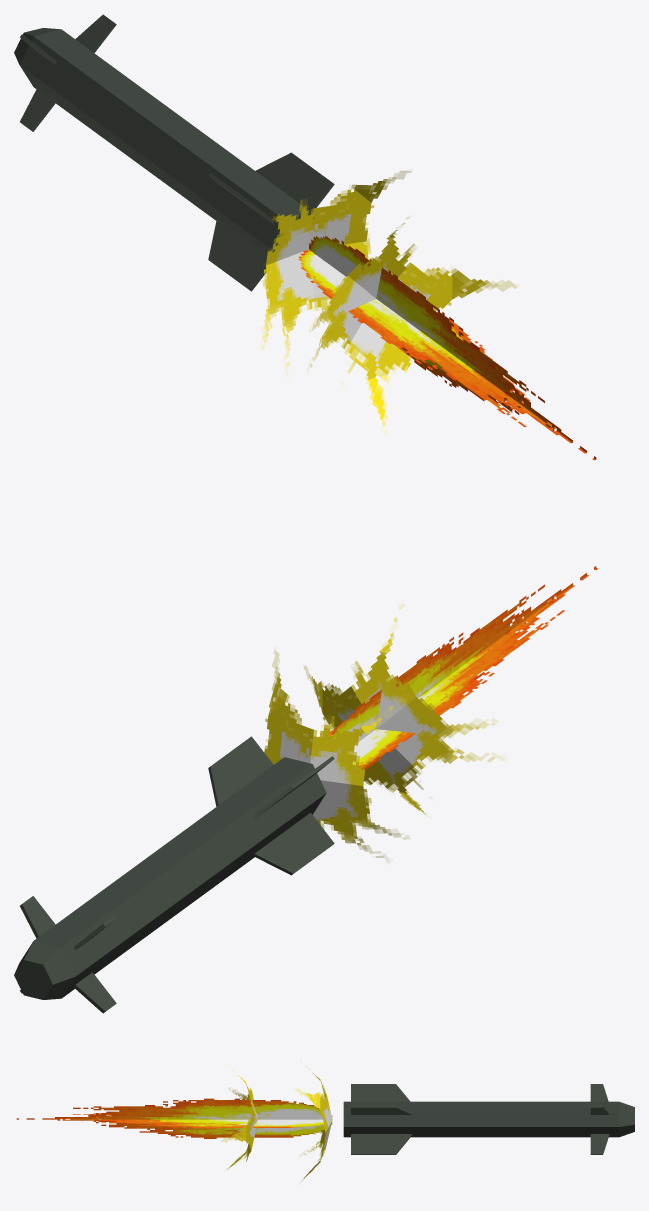
File: hellfire.glb
3 renders of one model, top to bottom at view 1: azimuth 30°, elevation 25°; view 2: azimuth 150°, elevation 25°; view 3: azimuth 270°, elevation 25°, orthographic. The views are drawn at different scales.
Parts seen in each view (by area): view 1: Plane.002, Cylinder.002; view 2: Cylinder.002, Plane.002; view 3: Cylinder.002, Plane.002.
Boxes of the visible parts, left/top/right/bottom form: Plane.002: left=262, top=171, right=596, bottom=460; Cylinder.002: left=14, top=14, right=334, bottom=291; Cylinder.002: left=14, top=736, right=334, bottom=1013; Plane.002: left=264, top=566, right=598, bottom=857; Cylinder.002: left=343, top=1084, right=634, bottom=1154; Plane.002: left=16, top=1066, right=332, bottom=1181.
Size of the model in its own units: 1.02 by 1.02 by 3.84.
3 materials, 2 textured.
